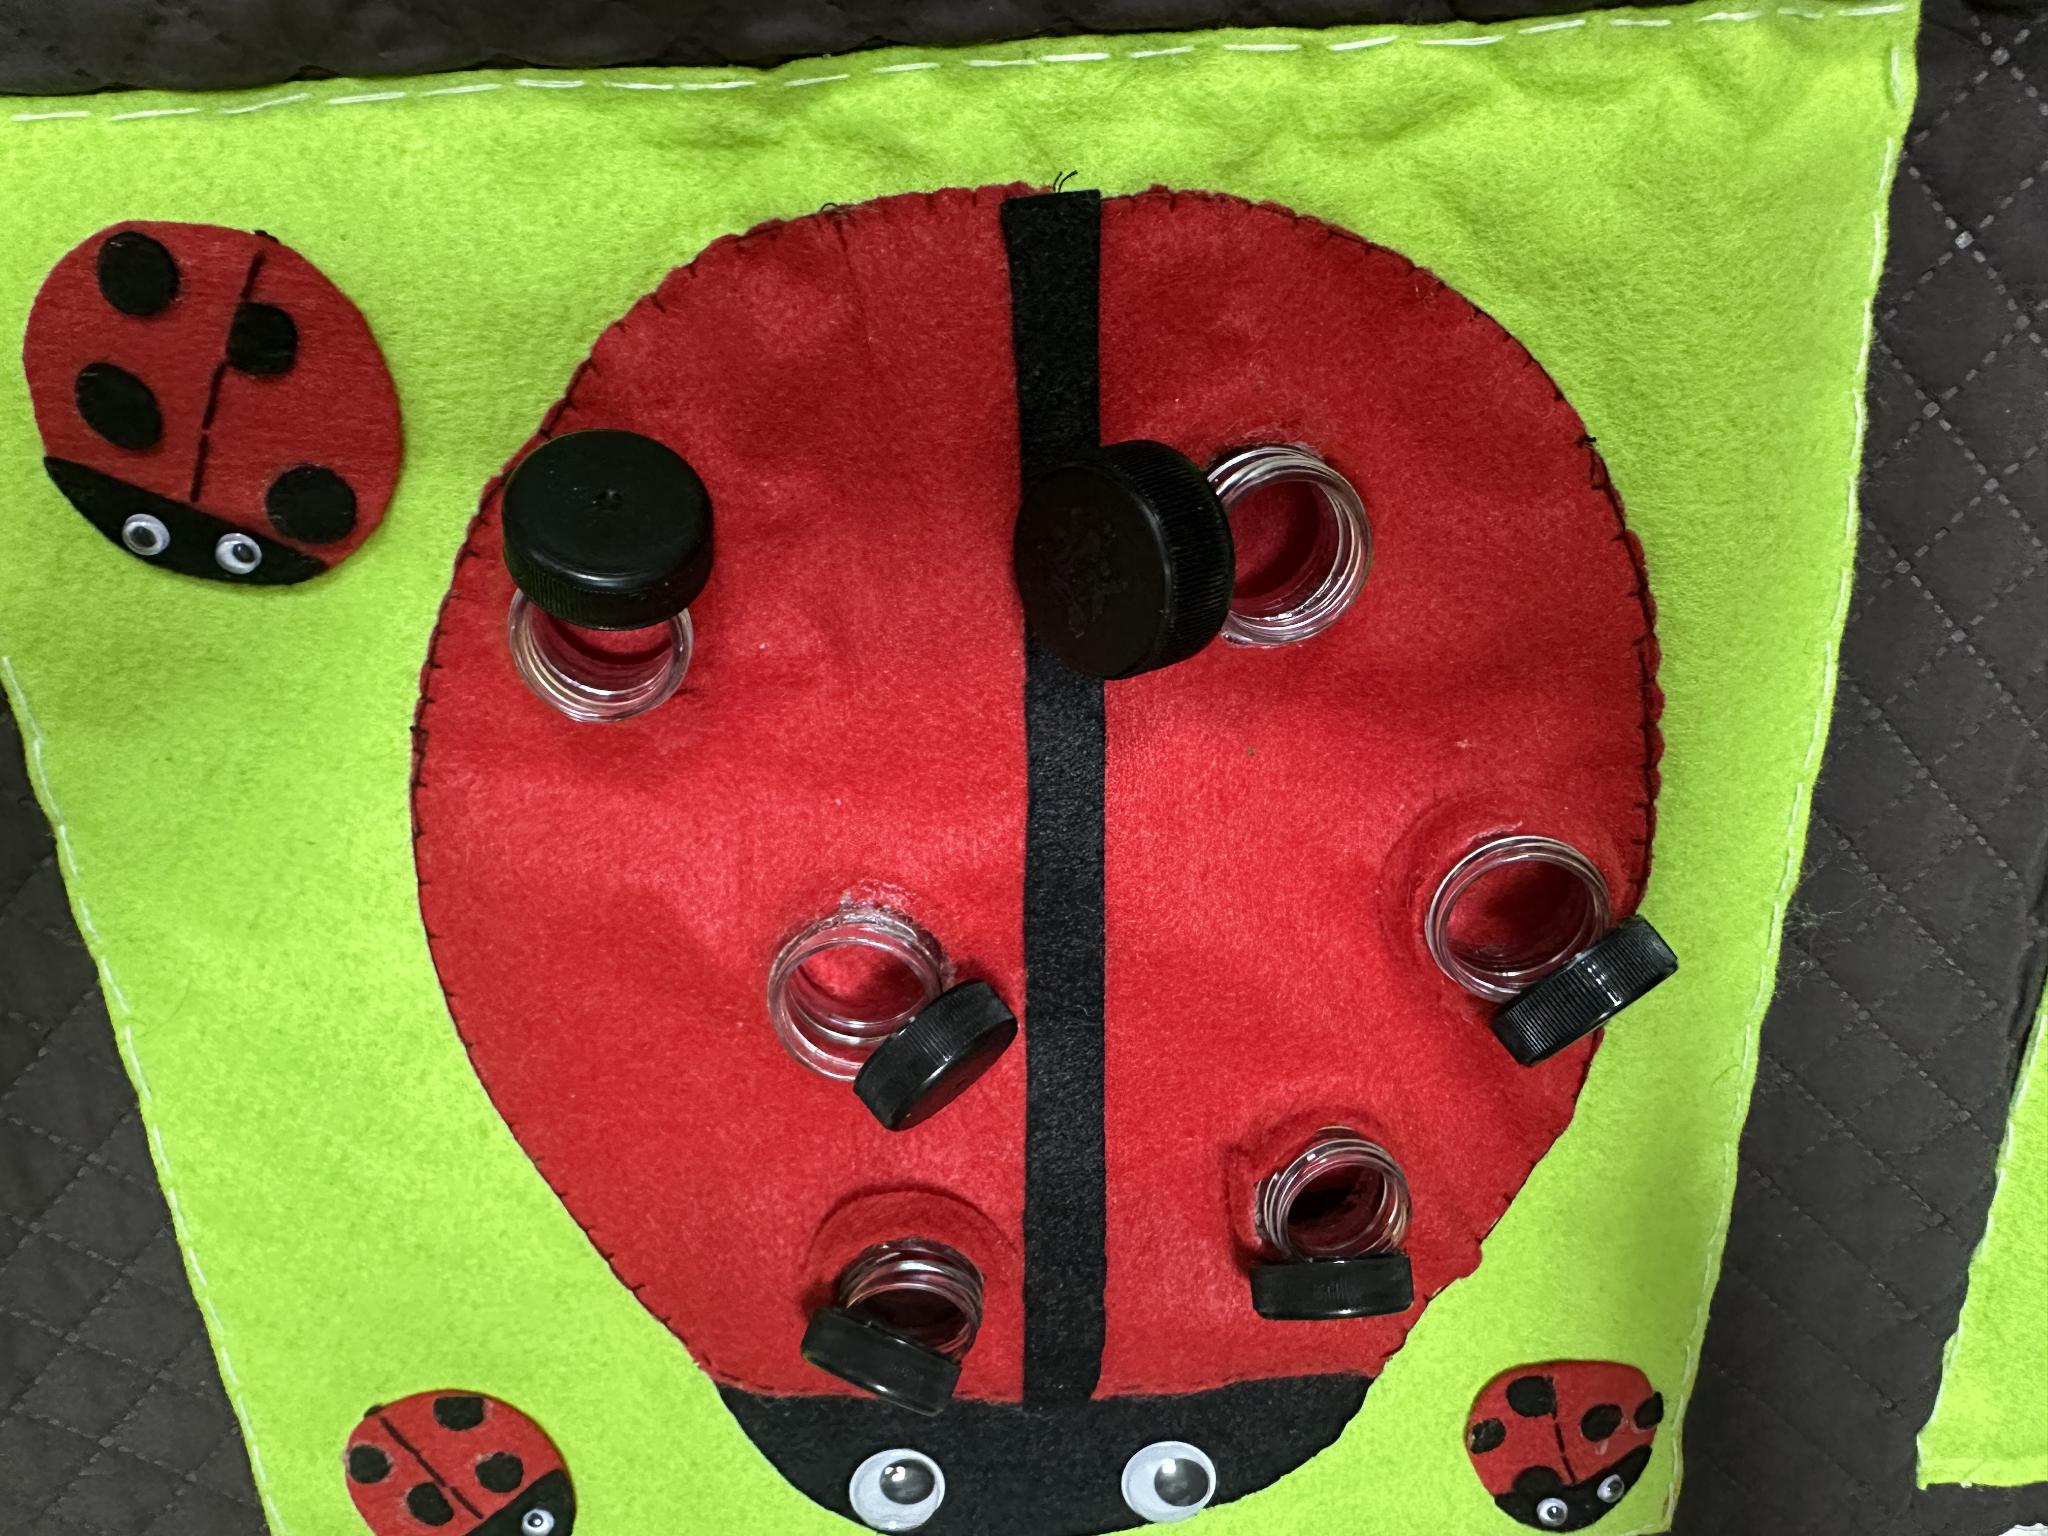cap_ng: (1003, 407, 1414, 716), (484, 418, 737, 747), (1421, 795, 1690, 1078), (748, 884, 1027, 1141), (769, 1194, 1014, 1421), (1227, 1099, 1435, 1339)
